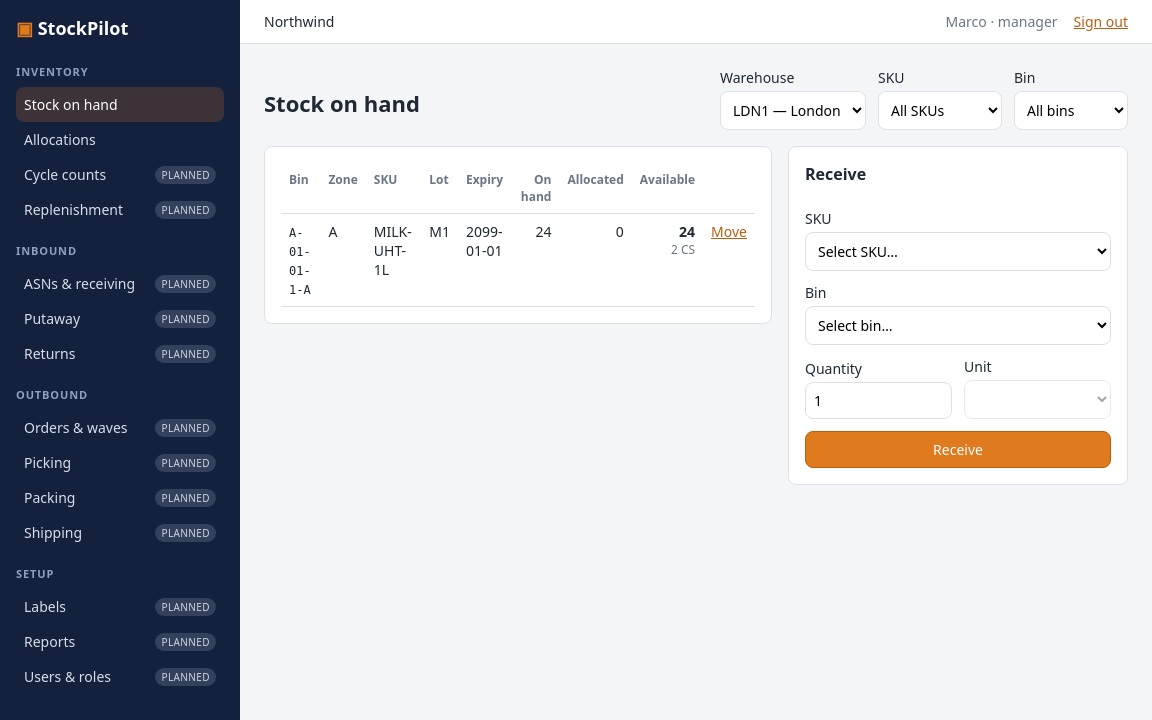
authenticated app › shows stock on hand with filters and opens the move form
The width and height of the screenshot is (1152, 720).
Expected: the heading "Stock on hand" is shown, [264,88,420,118]
Expected: the text "2 CS" is shown, [671,241,695,258]
Select "MILK-UHT-1L" in the dropdown labelled "SKU" below "Warehouse" at coordinates (940, 110), box [878,91,1002,130]
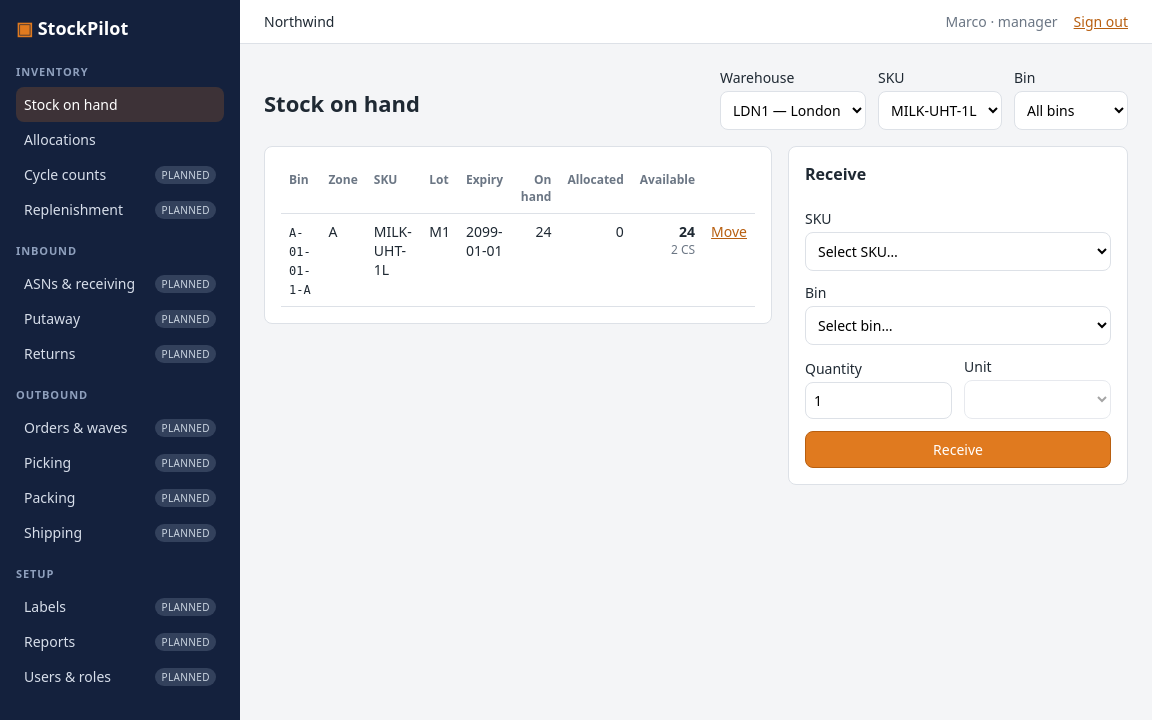
Click the button "Move" at coordinates (729, 232), box [711,222,747,241]
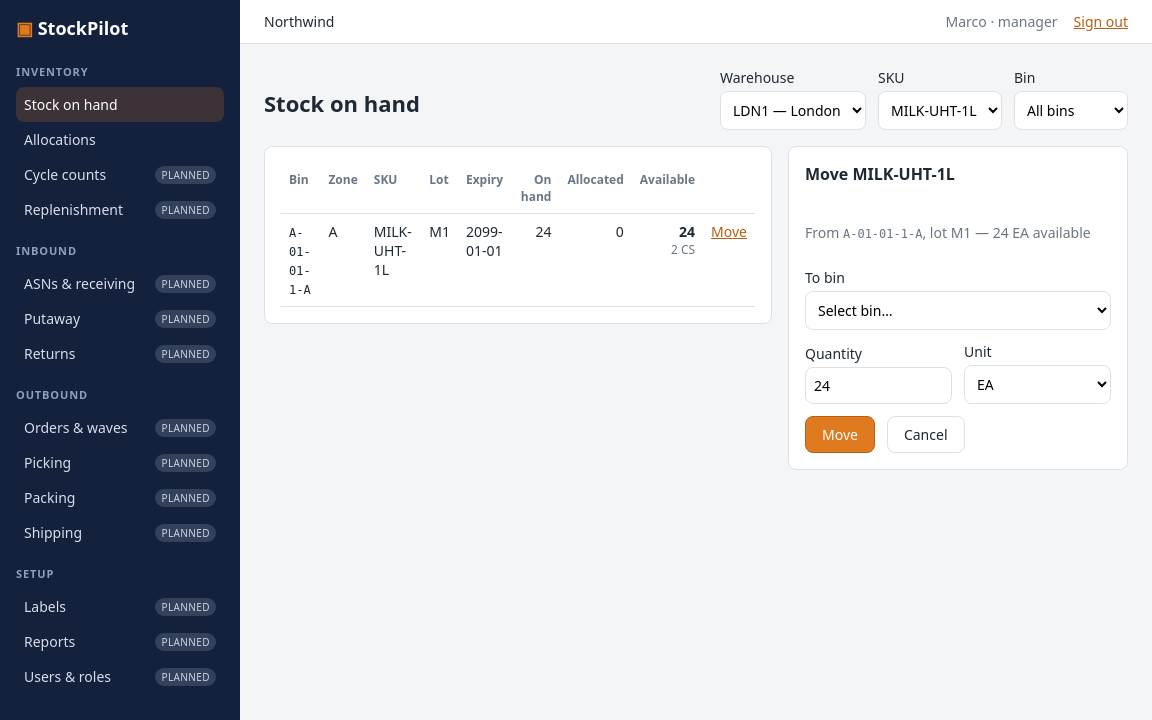
Expected: the form named "Move stock" is shown, [788,146,1128,470]
Click the button "Cancel" at coordinates (926, 434), box [887,416,964,453]
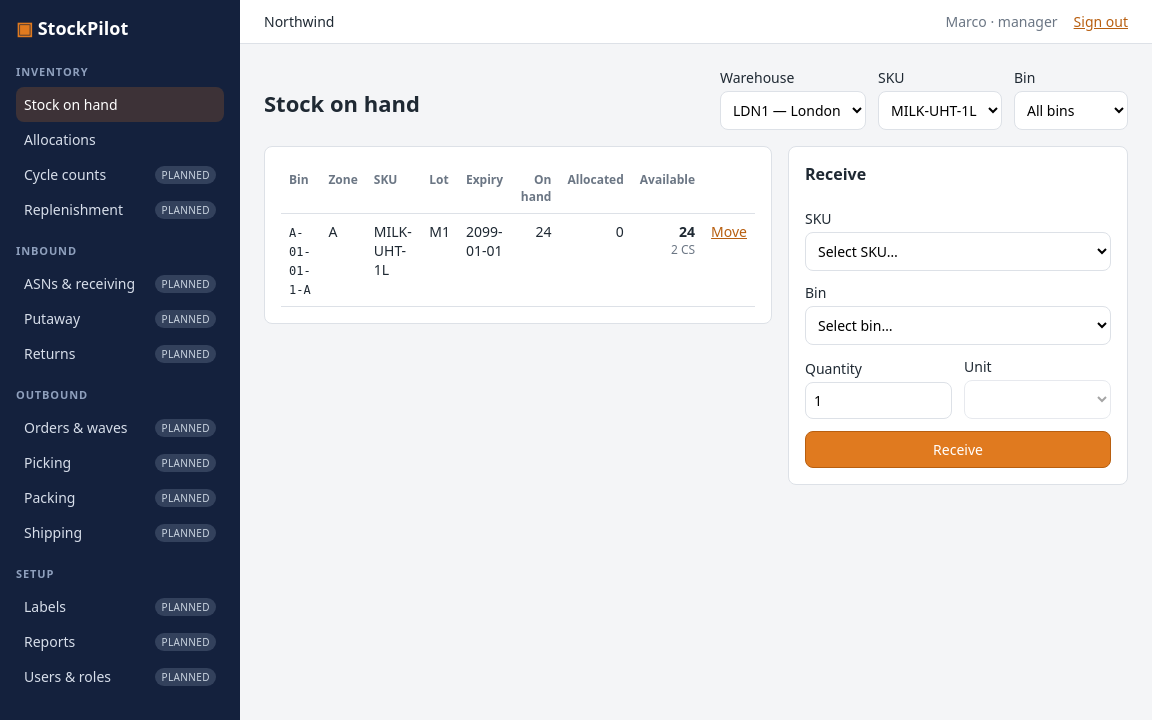
Expected: the form named "Receive stock" is shown, [788,146,1128,485]
